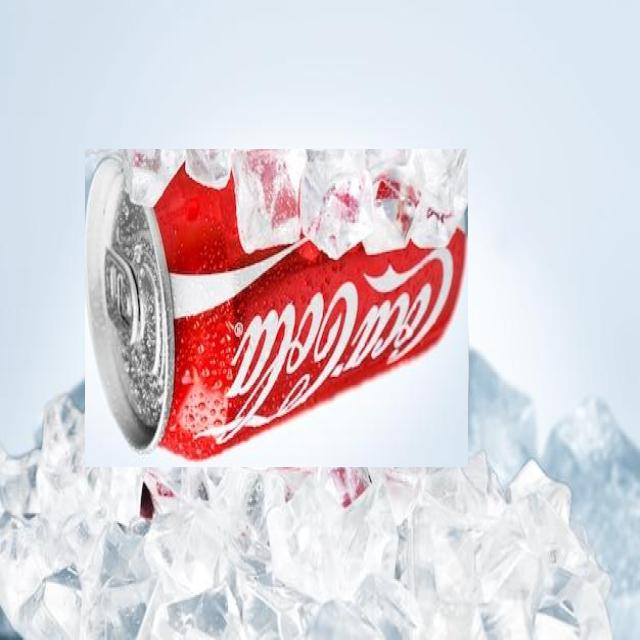coca-cola: (85, 149, 468, 467)
